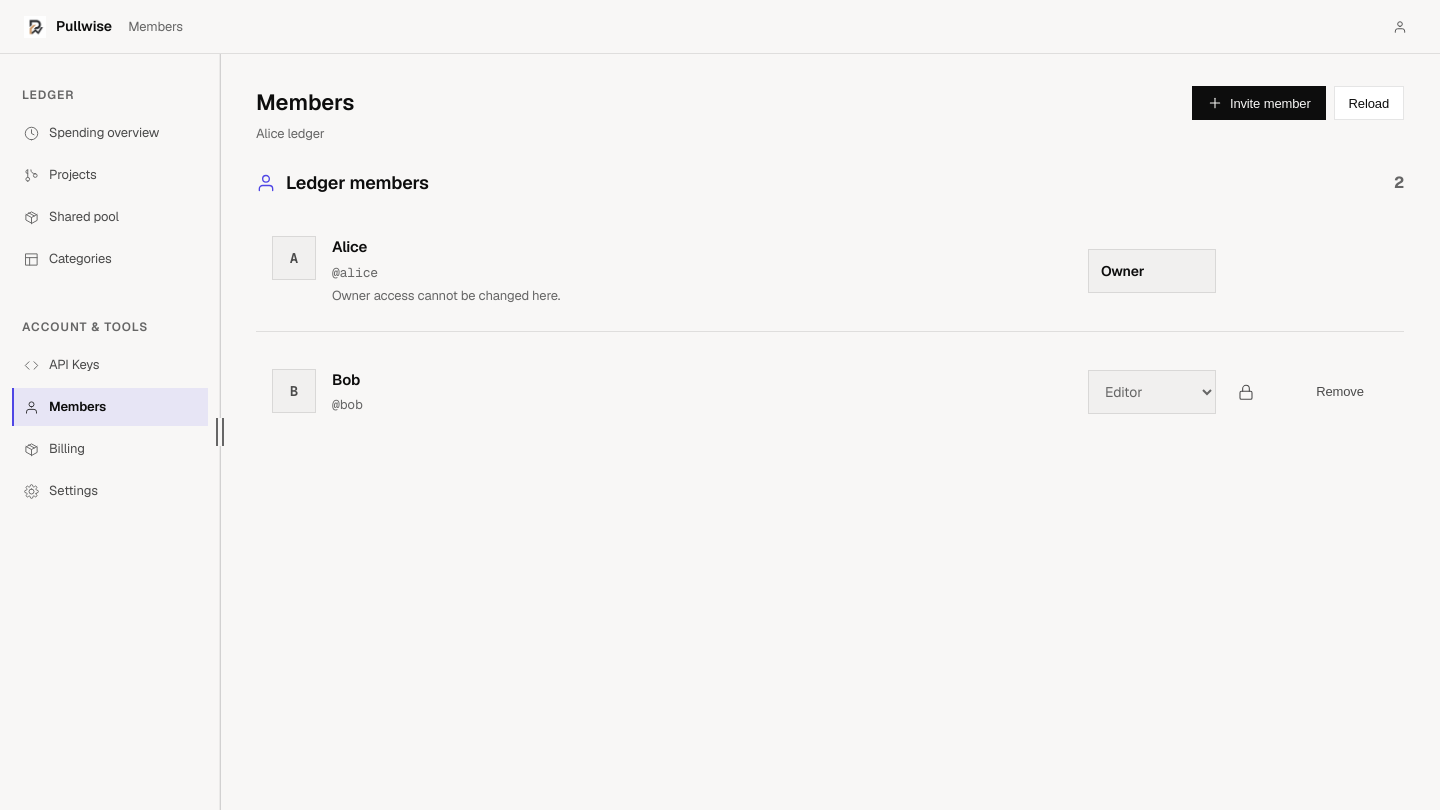
Test case: Members screen › cannot open a closed management rail during a role write or its required member read
Click the button named "Edit role for bob": (1246, 392) [1224,370,1268,414]
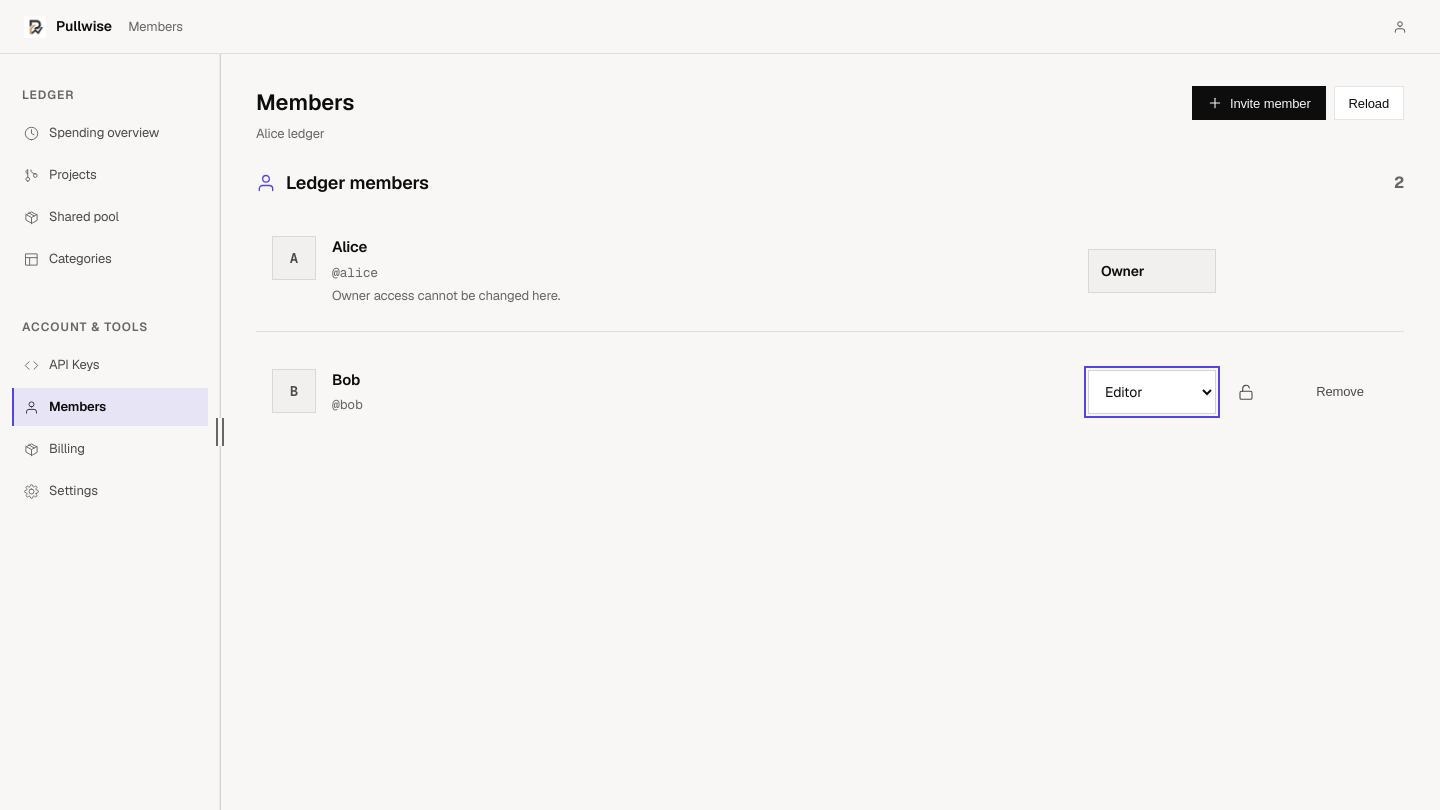
Select "Viewer" in the dropdown named "Role for bob": (1152, 392) [1088,370,1216,414]
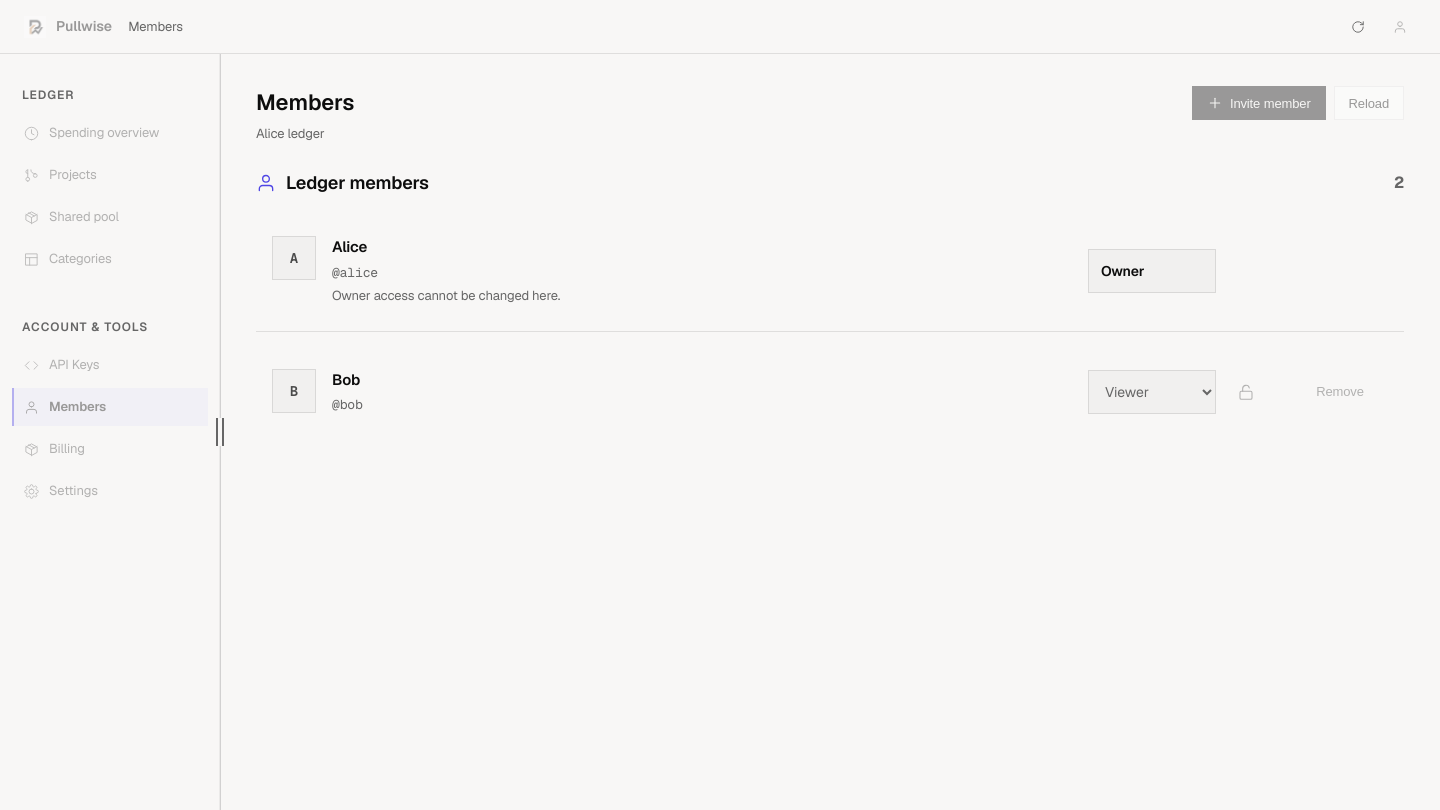
Result: the button "Invite member" is disabled
Click the button "Invite member": (1259, 103) [1192,86,1326,120]
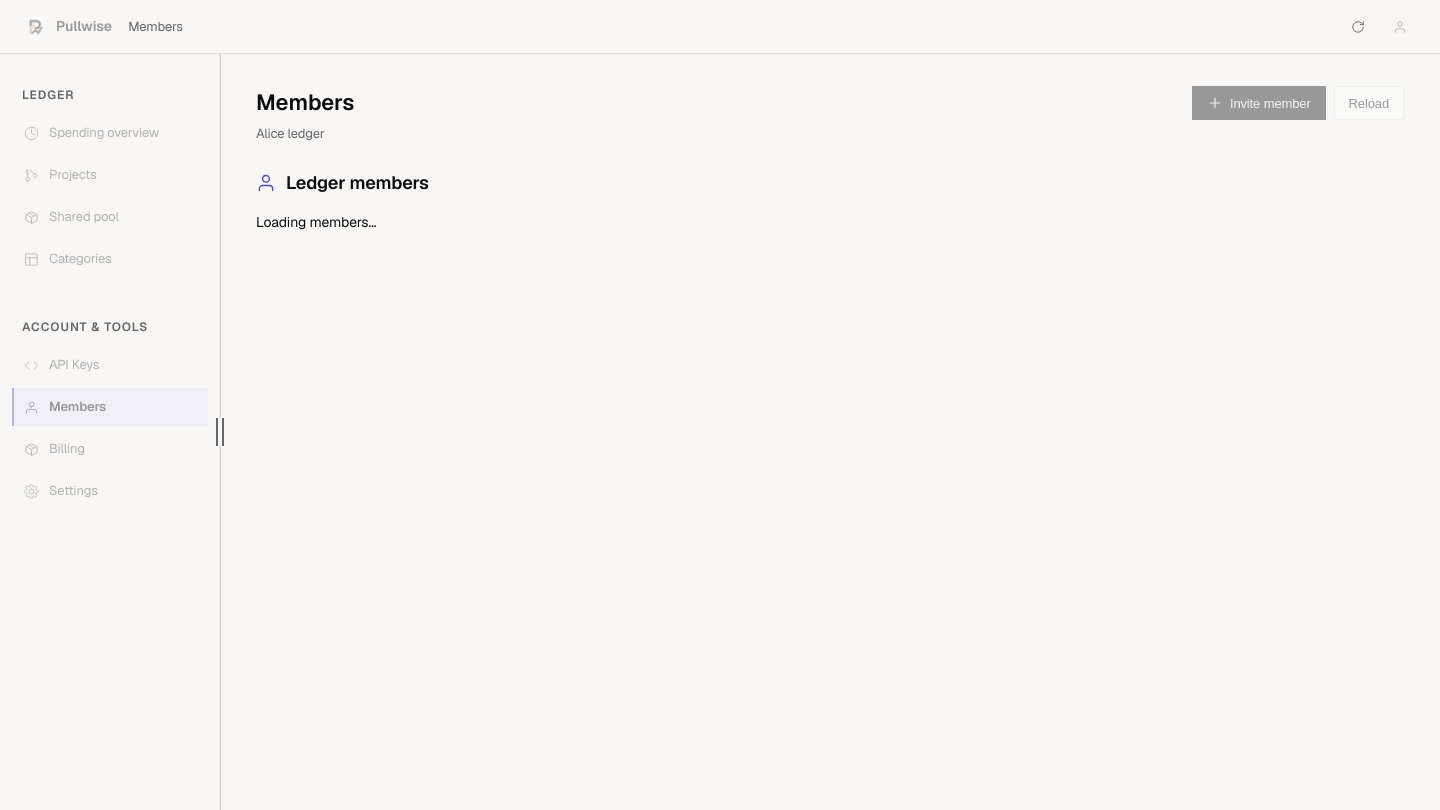
Result: the button "Invite member" is disabled
Click the button "Invite member": (1259, 103) [1192,86,1326,120]
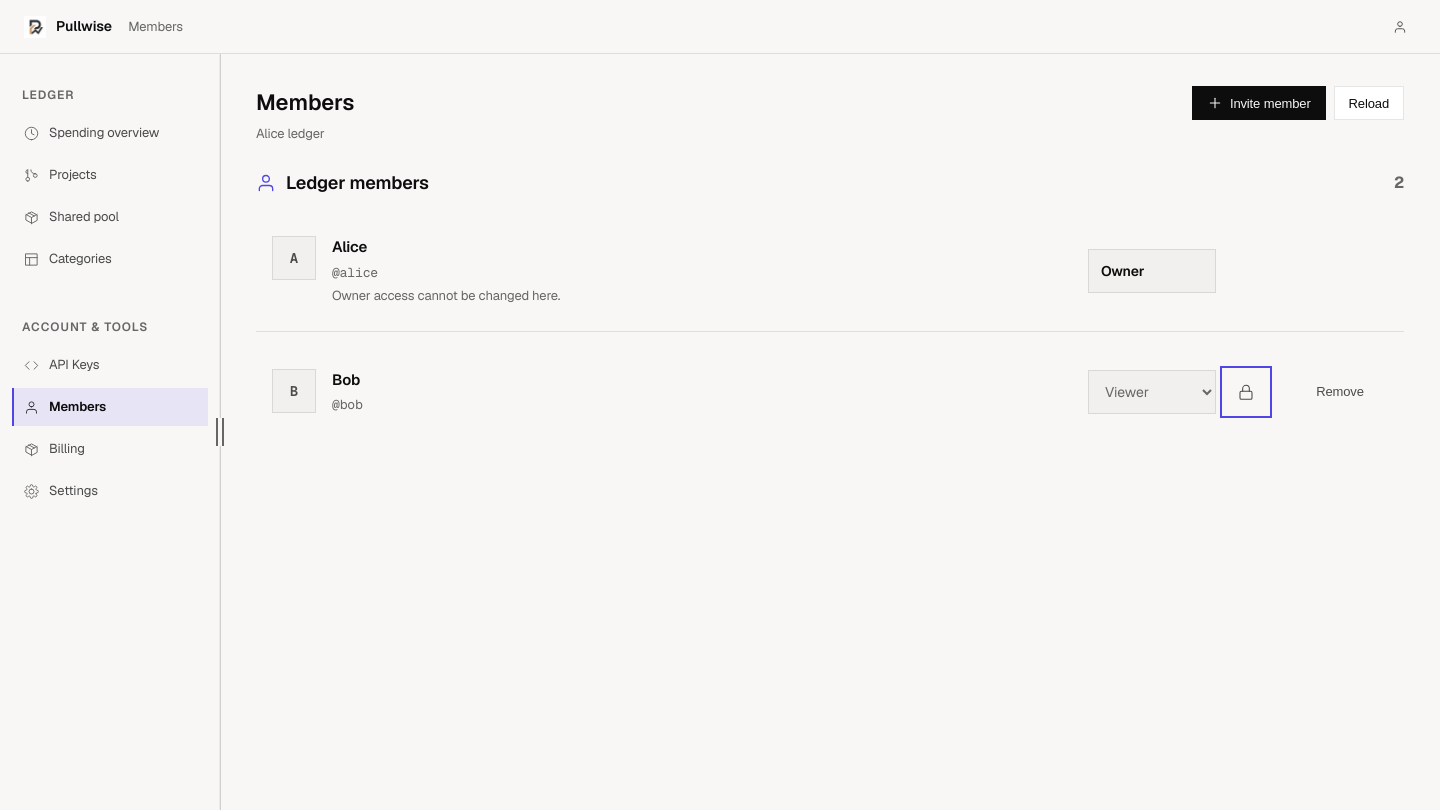
Result: the button "Invite member" is enabled at [1192,86,1326,120]
